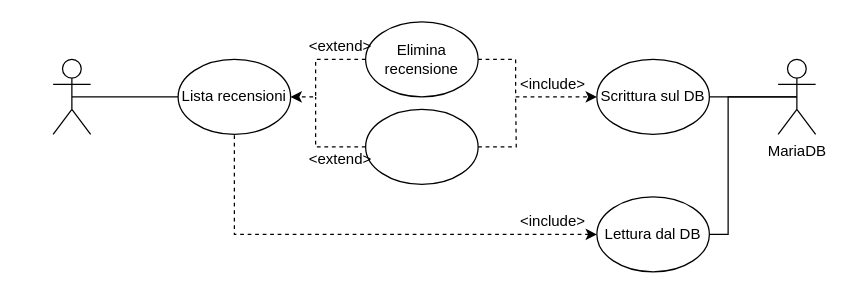
The diagram is 848 pixels wide and 294 high, and some of its shapes have lost their labels. The shapes that lost their labels are listed below. From the top down, each one's box as (x1, y1, x2, y2) in pixels, then its label:
(52, 58, 91, 134): Amministratore
(364, 108, 478, 184): Oscura testo recensione
